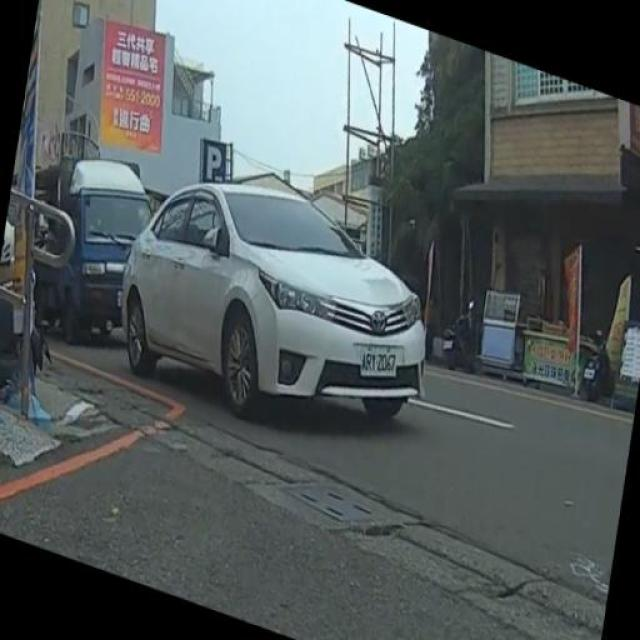Legalparking: (108, 168, 460, 443)
